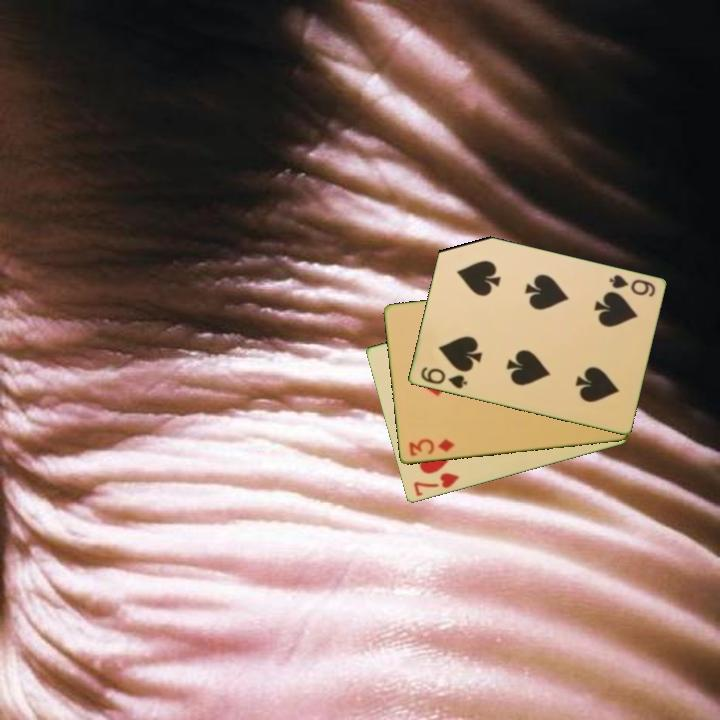3d: (405, 436, 457, 459)
6s: (417, 363, 470, 392), (605, 271, 658, 300)
7h: (410, 469, 462, 499)
